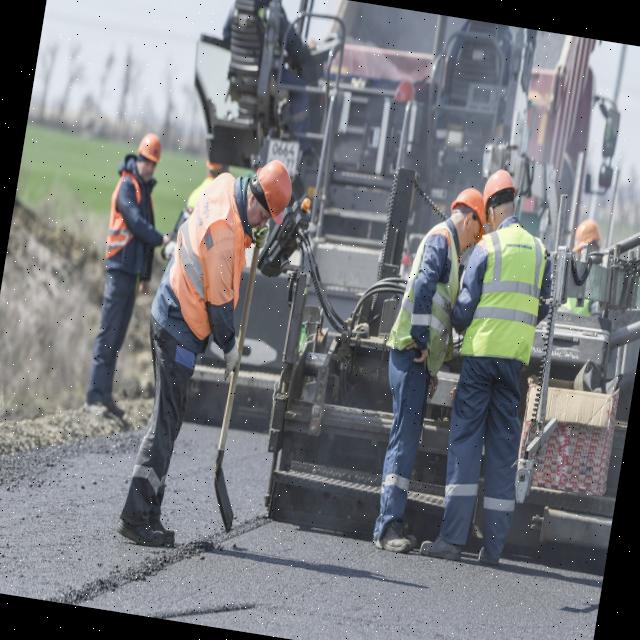Helmet: (249, 157, 299, 228), (451, 186, 488, 228), (483, 170, 518, 211), (571, 219, 604, 255), (137, 132, 166, 168)
Jacket: (161, 172, 261, 347), (459, 217, 551, 375), (397, 225, 468, 366), (104, 175, 157, 271)
